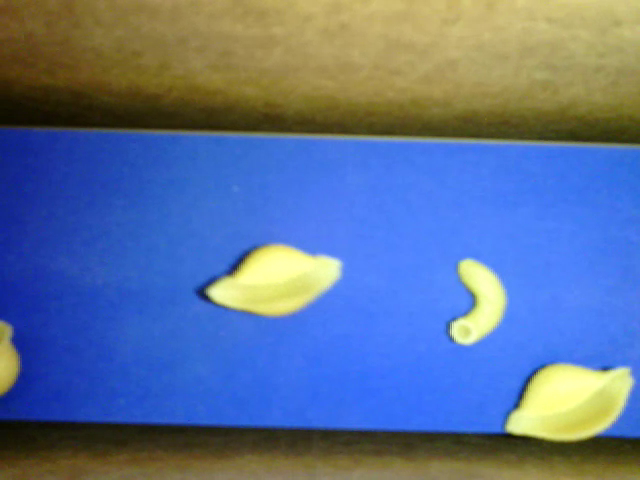elbow: (447, 259, 507, 346)
shell: (203, 244, 341, 319), (505, 362, 634, 441)
